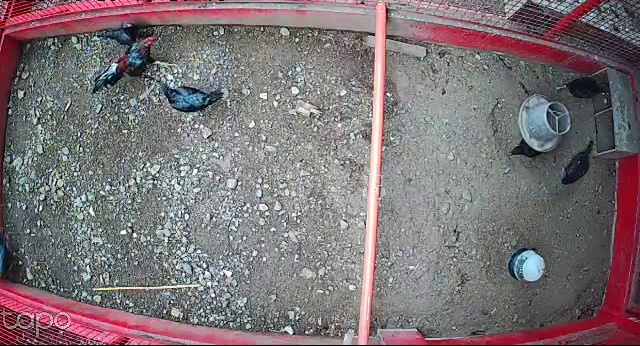Chicken: (155, 78, 226, 116), (555, 62, 611, 107), (558, 138, 598, 187), (93, 20, 145, 49), (505, 133, 556, 159)
Drinker: (505, 244, 548, 284)
Feeder: (515, 91, 572, 153)
Rooster: (90, 32, 177, 99)
